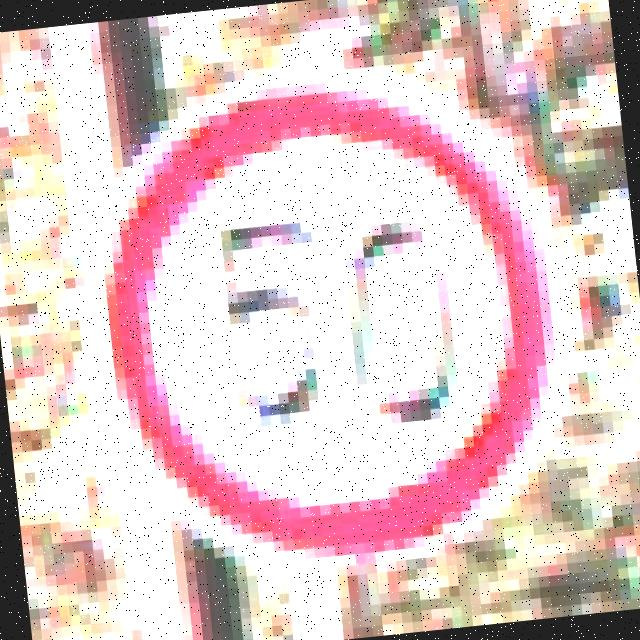Ograniczenie predkosci do 50: (81, 58, 571, 580)
